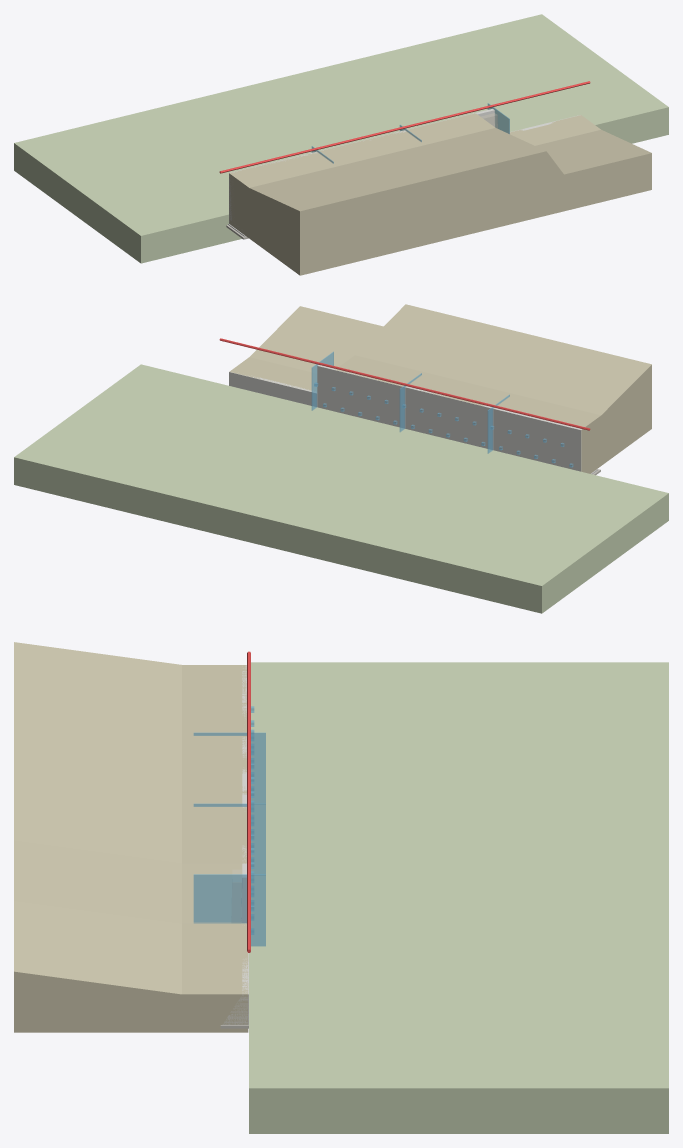
3 views of the same model, one above another, from view 1: azimuth 30°, elevation 25°; view 2: azimuth 150°, elevation 25°; view 3: azimuth 270°, elevation 25° (orthographic). The views are drawn at different scales.
Parts seen in each view (by area): view 1: 地形|前面地盤 (参考), 土工|背面盛土 (参考), 線形|擁壁法線 (前面線); view 2: 地形|前面地盤 (参考), 土工|背面盛土 (参考), 本体|逆T式 たて壁 (H=5.0m, t=0.4〜0.5m, ブロック1), 本体|逆T式 たて壁 (H=5.0m, t=0.4〜0.5m, ブロック2), 本体|逆T式 たて壁 (H=5.0m, t=0.4〜0.5m, ブロック3), 本体|重力式擁壁 (H=2.0m, 天端0.4m, 背面1:0.6) L=10m, 線形|擁壁法線 (前面線), 記号|水抜き孔 位置記号 (φ75 @2m 千鳥); view 3: 地形|前面地盤 (参考), 土工|背面盛土 (参考), 記号|目地位置記号 (No.30 逆T式/重力式 境界), 記号|目地位置記号 (No.10), 記号|目地位置記号 (No.20), 線形|擁壁法線 (前面線).
Part boxes in pixels (x1,y1,x2,y2): 地形|前面地盤 (参考): (14,14,668,263); 土工|背面盛土 (参考): (229,113,651,275); 線形|擁壁法線 (前面線): (219,81,590,173); 地形|前面地盤 (参考): (14,364,668,613); 土工|背面盛土 (参考): (229,304,651,473); 本体|逆T式 たて壁 (H=5.0m, t=0.4〜0.5m, ブロック1): (493,408,581,471); 本体|逆T式 たて壁 (H=5.0m, t=0.4〜0.5m, ブロック2): (405,386,493,449); 本体|逆T式 たて壁 (H=5.0m, t=0.4〜0.5m, ブロック3): (317,365,405,428); 本体|重力式擁壁 (H=2.0m, 天端0.4m, 背面1:0.6) L=10m: (229,372,317,406); 線形|擁壁法線 (前面線): (219,338,590,430); 記号|水抜き孔 位置記号 (φ75 @2m 千鳥): (314,383,573,467); 地形|前面地盤 (参考): (249,662,668,1133); 土工|背面盛土 (参考): (14,642,248,1032); 記号|目地位置記号 (No.30 逆T式/重力式 境界): (193,874,265,946); 記号|目地位置記号 (No.10): (193,732,265,803); 記号|目地位置記号 (No.20): (193,803,265,874); 線形|擁壁法線 (前面線): (247,651,250,952).
Size of the model in its own units: 60 by 9 by 39.
